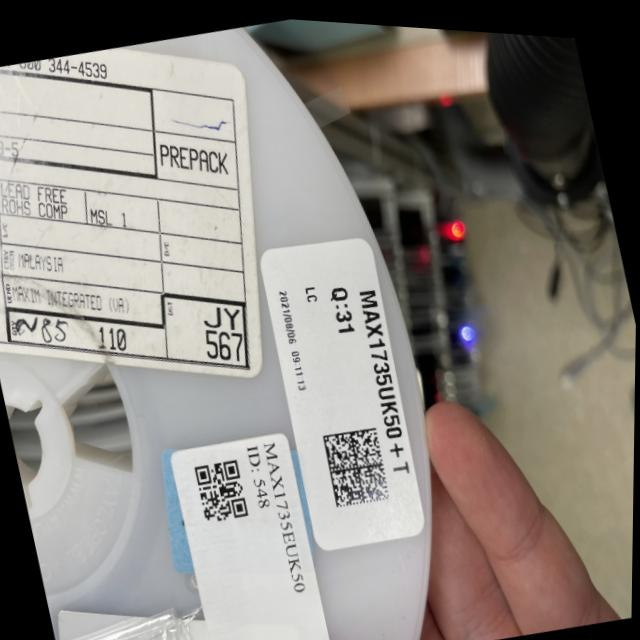datamatrix: (318, 413, 397, 510)
qrcode: (189, 446, 255, 527)
